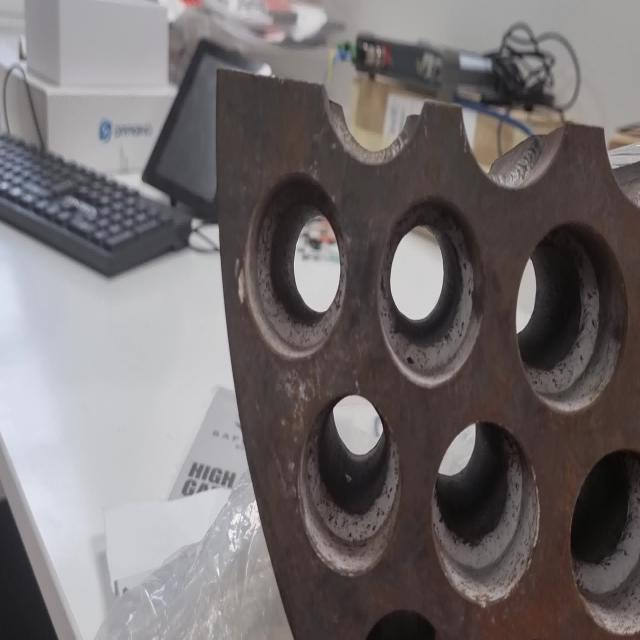Hole: (516, 218, 628, 413), (374, 194, 485, 387), (432, 416, 541, 606), (240, 172, 348, 360), (296, 394, 402, 578), (568, 448, 640, 636)
